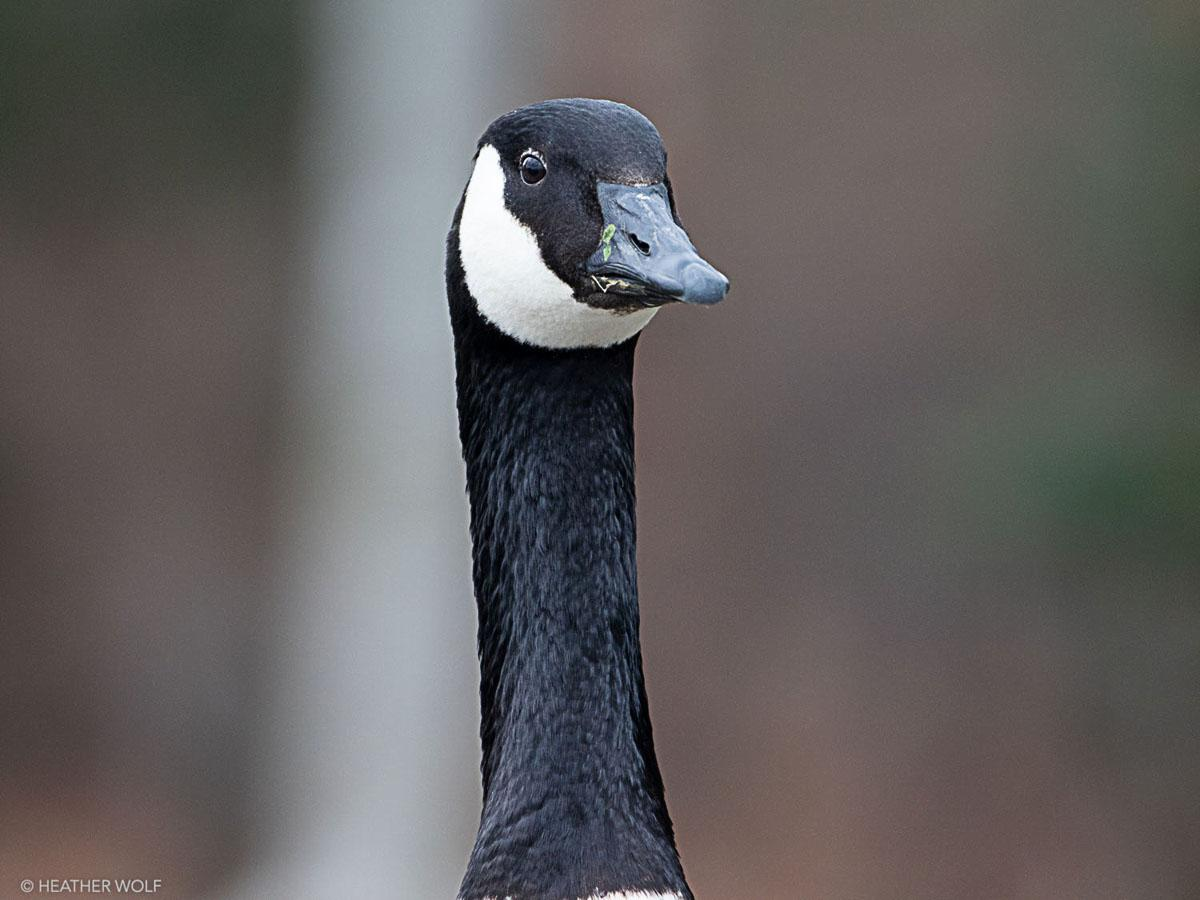Canadian-Goose: (449, 95, 729, 900)
